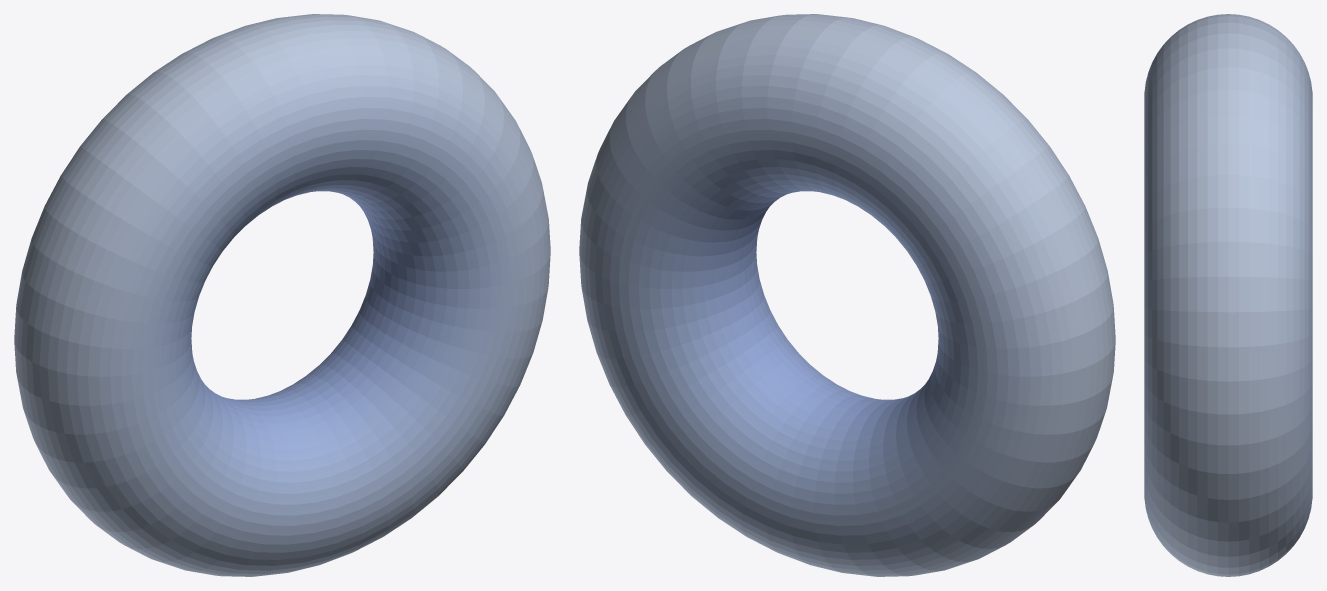
3 views of the same model, side by side, from view 1: azimuth 30°, elevation 25°; view 2: azimuth 150°, elevation 25°; view 3: azimuth 270°, elevation 25° (orthographic). The views are drawn at different scales.
Visible parts, largest first — view 1: world; view 2: world; view 3: world.
Part boxes in pixels (left/top/right/bottom): world: left=14, top=14, right=550, bottom=576; world: left=579, top=14, right=1115, bottom=576; world: left=1144, top=14, right=1312, bottom=576.
Bounding box in the file's own units: 20.93 × 20.89 × 6.25.
